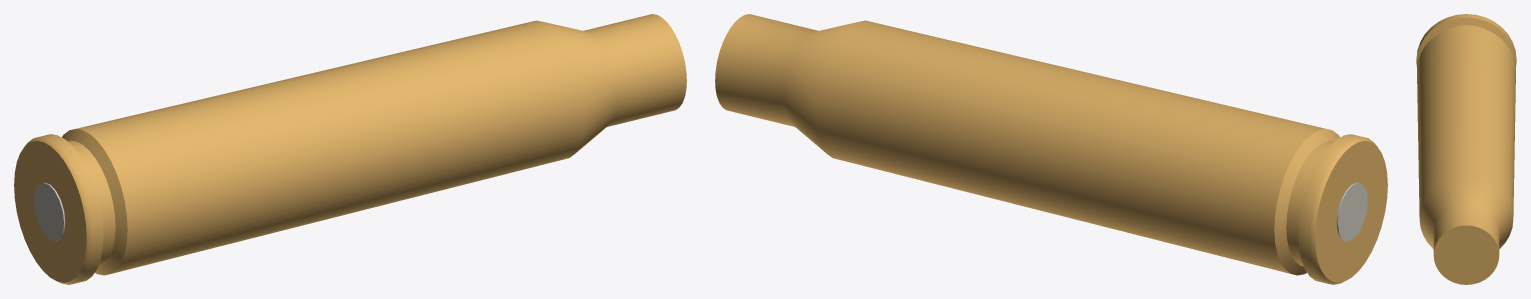
File: estojo.obj
3 views of the same model, side by side, from view 1: azimuth 30°, elevation 25°; view 2: azimuth 150°, elevation 25°; view 3: azimuth 270°, elevation 25° (orthographic). The views are drawn at different scales.
Bounding box in the file's own units: 0.1792 × 0.0384 × 0.0384.
